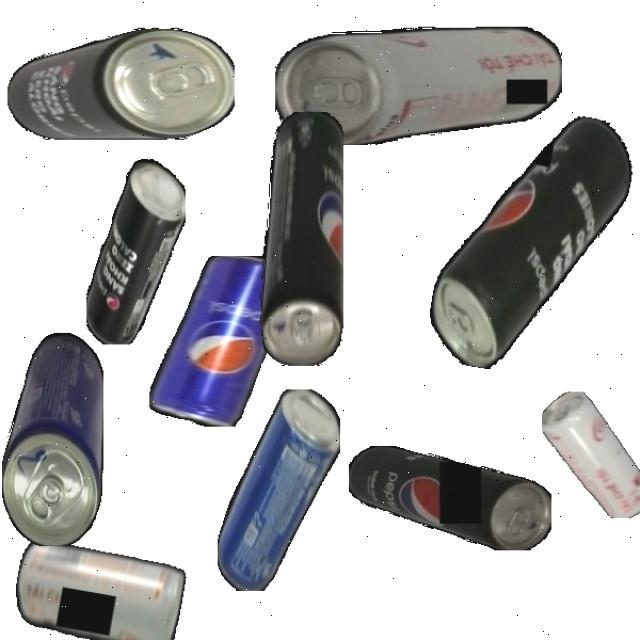debris: (422, 97, 640, 387), (275, 26, 562, 145), (6, 28, 235, 140), (217, 388, 340, 591), (148, 256, 294, 427), (1, 325, 104, 546), (259, 111, 344, 366), (348, 446, 551, 550), (85, 153, 186, 344), (9, 536, 187, 640), (541, 392, 640, 518)
